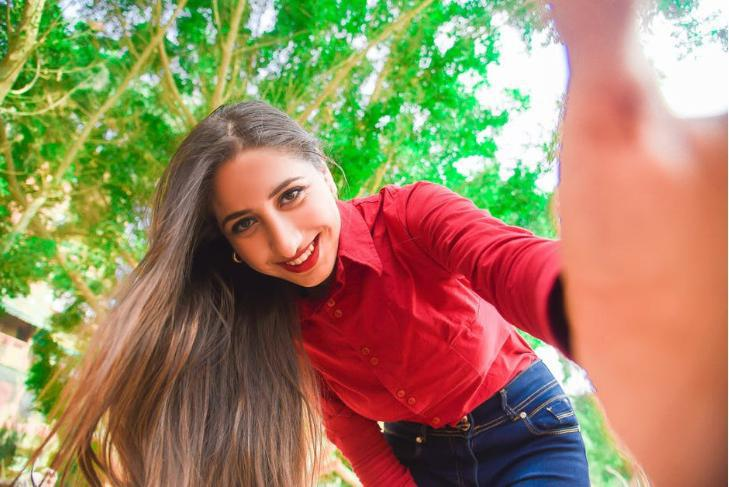face: (212, 147, 340, 290)
